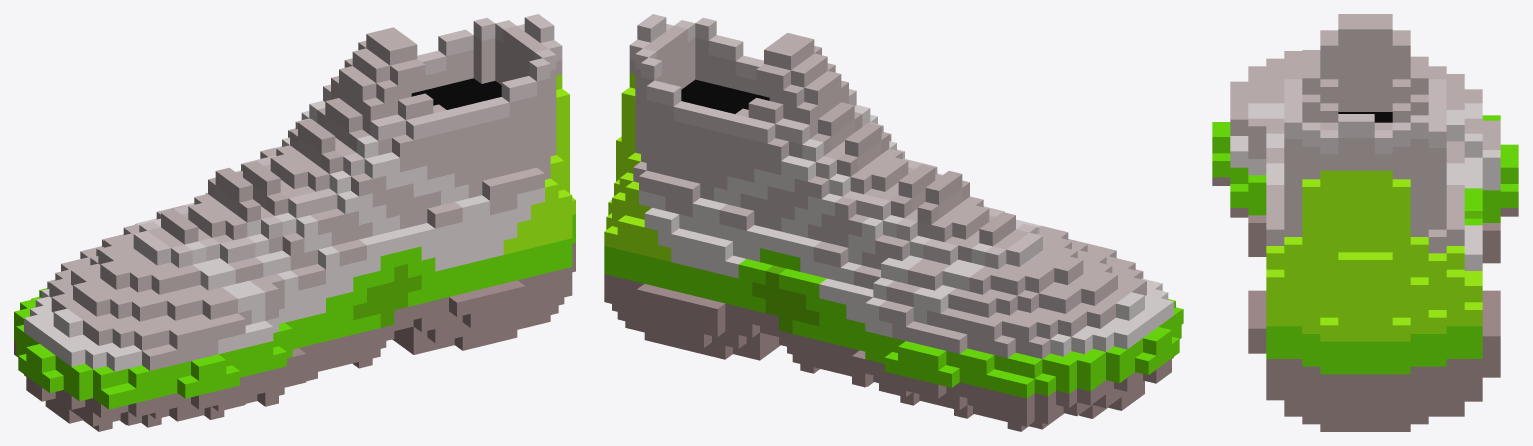
The model's file is Sweet Lime.fbx.
The picture shows the model from 3 angles, left to right: view 1: azimuth 30°, elevation 25°; view 2: azimuth 150°, elevation 25°; view 3: azimuth 270°, elevation 25°; orthographic projection. The views are drawn at different scales.
Visible parts, largest first — view 1: Untitled; view 2: Untitled; view 3: Untitled.
Boxes of the visible parts, x1,y1,x2,y2 form: Untitled: (14,14,575,431); Untitled: (604,14,1183,431); Untitled: (1212,14,1518,431).
Bounding box in the file's own units: 390 × 200 × 170.
